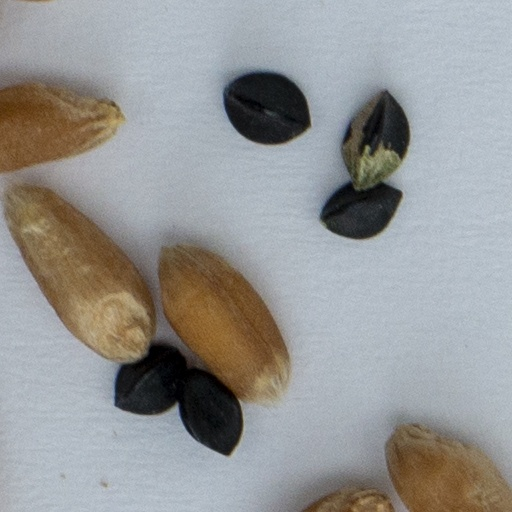Fallopia-Convolvulus-poly: (344, 91, 408, 188), (224, 75, 309, 144), (177, 370, 242, 454), (115, 351, 186, 413), (323, 183, 401, 238)
